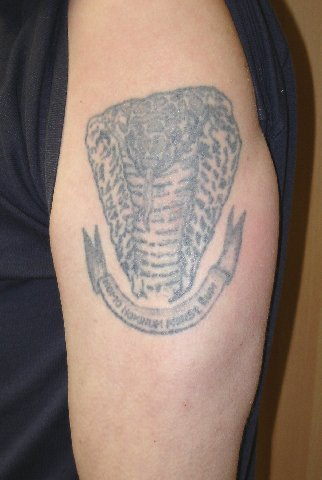tatu7_zmeya: (88, 86, 240, 282)
